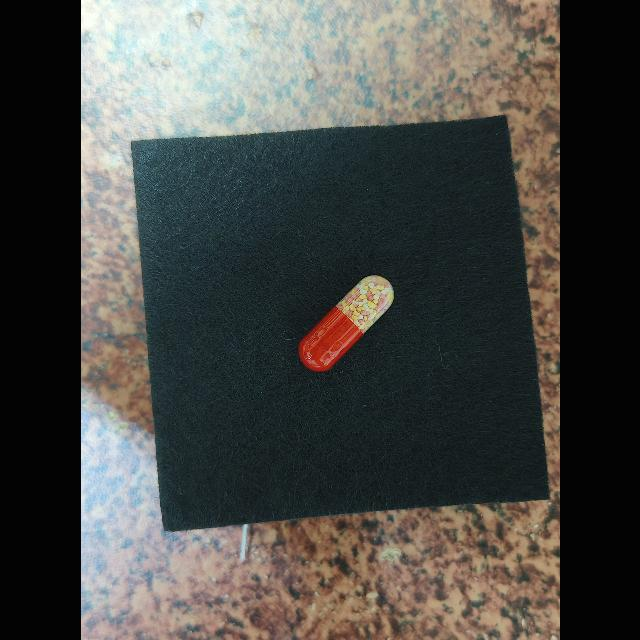Intact Capsule: (298, 275, 394, 372)
